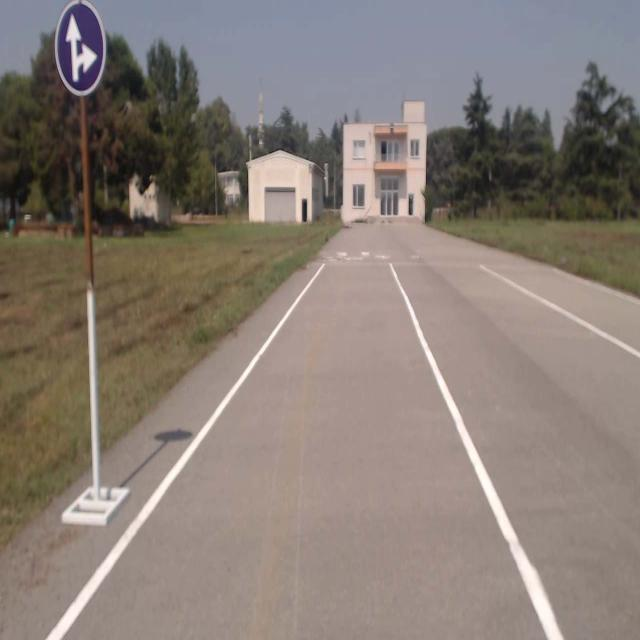ilerisag: (56, 0, 106, 96)
